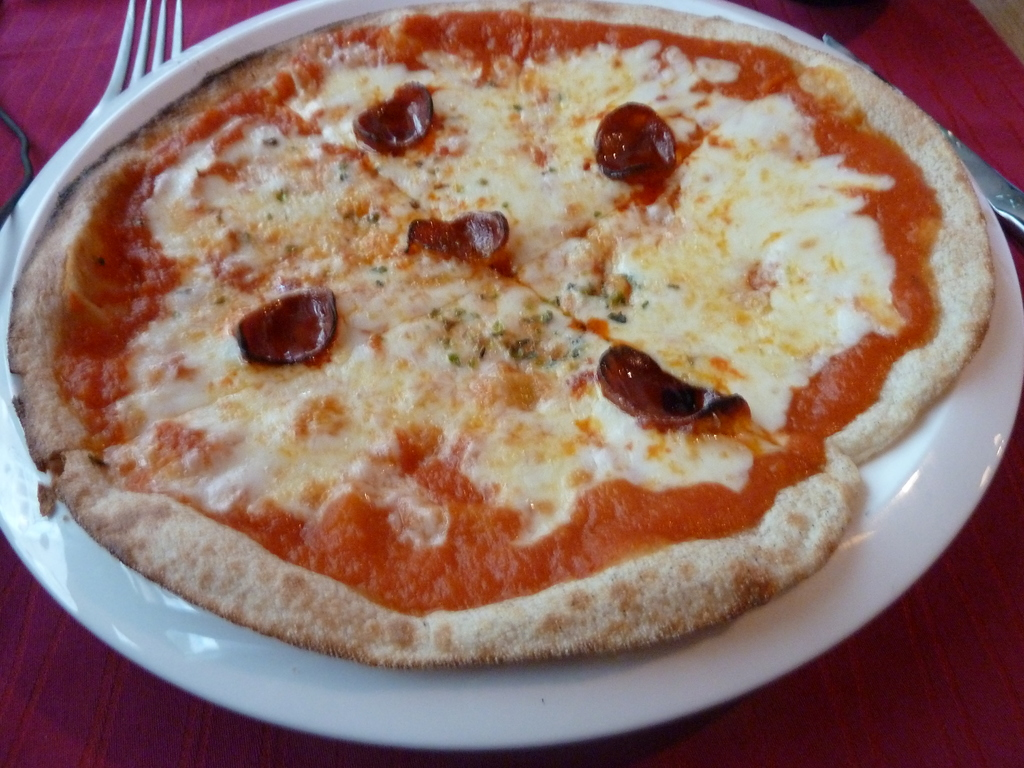Pizza: (8, 0, 993, 660)
